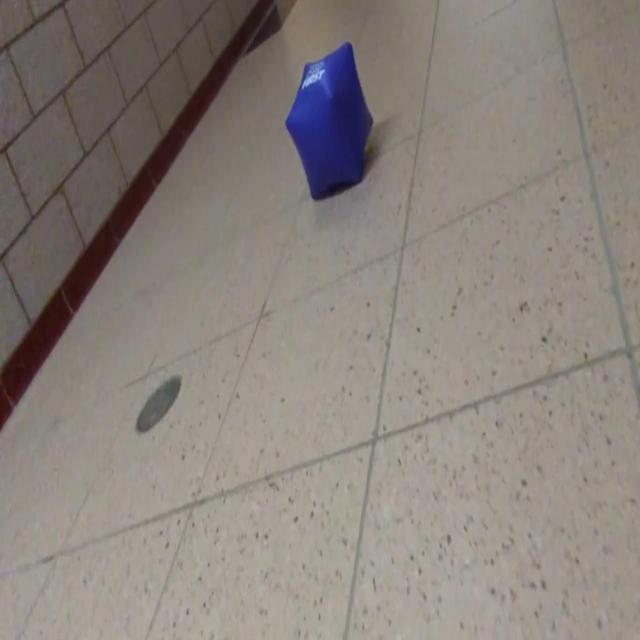frc_cube: (284, 41, 374, 195)
